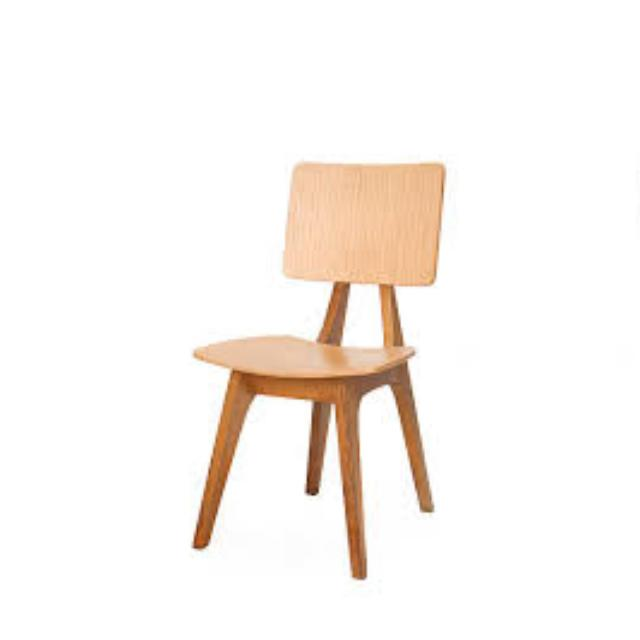obstacle: (163, 102, 484, 590), (608, 102, 640, 589), (0, 102, 20, 589)
